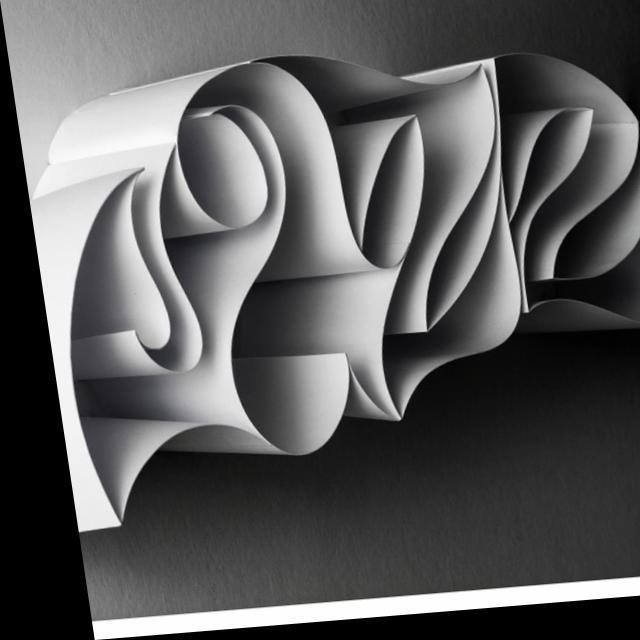nonspitting: (39, 40, 640, 538)
